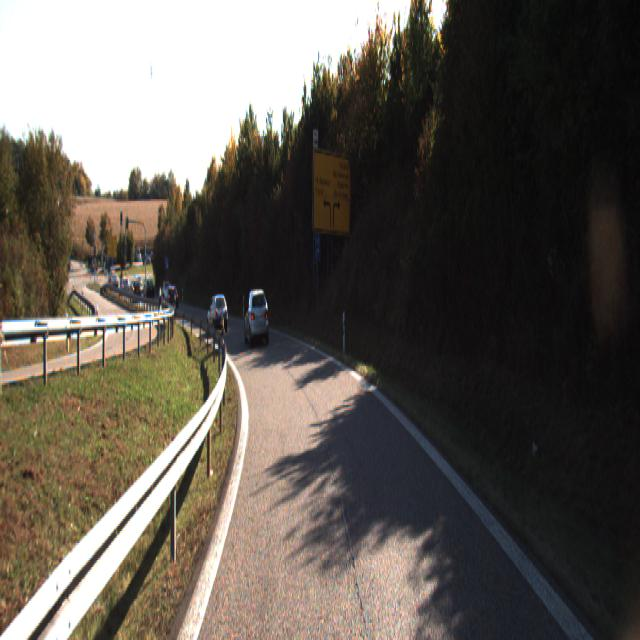Car: (244, 286, 270, 344), (206, 294, 229, 334), (163, 286, 181, 315)
